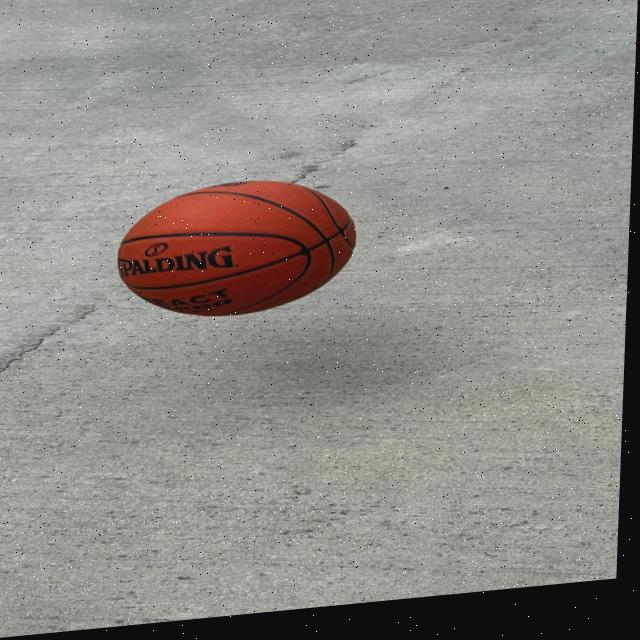Basketball: (118, 173, 360, 328)
